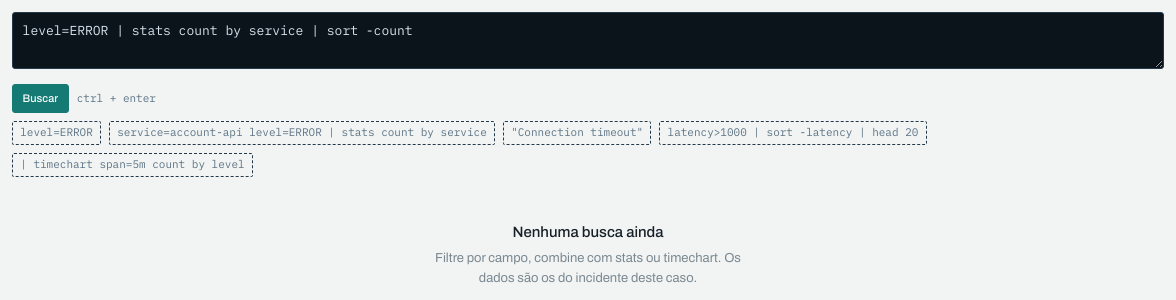
it: LogSearch › mostra resultado tabular de stats
Click the button "Buscar" at (40, 99), box [12,84,69,113]
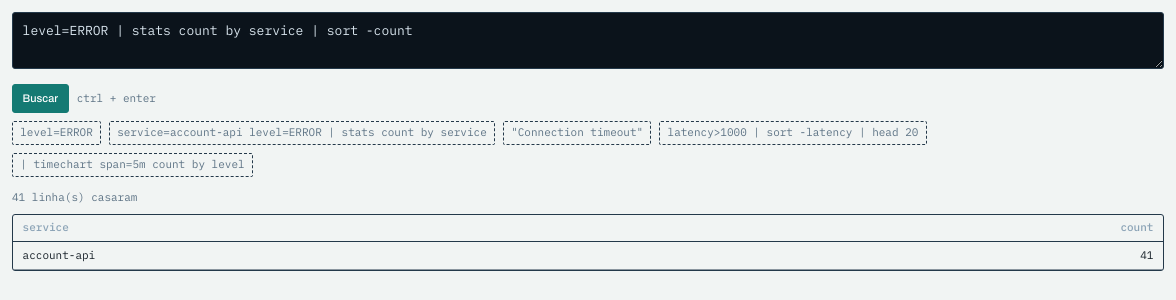
Expected: the table is shown, [13,215,1163,270]
Expected: the cell "41" is shown, [746,242,1163,269]
